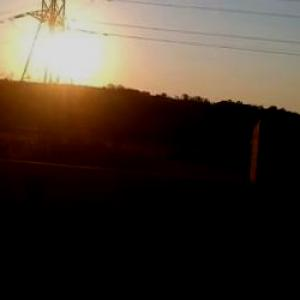follow: (0, 164, 60, 299)
